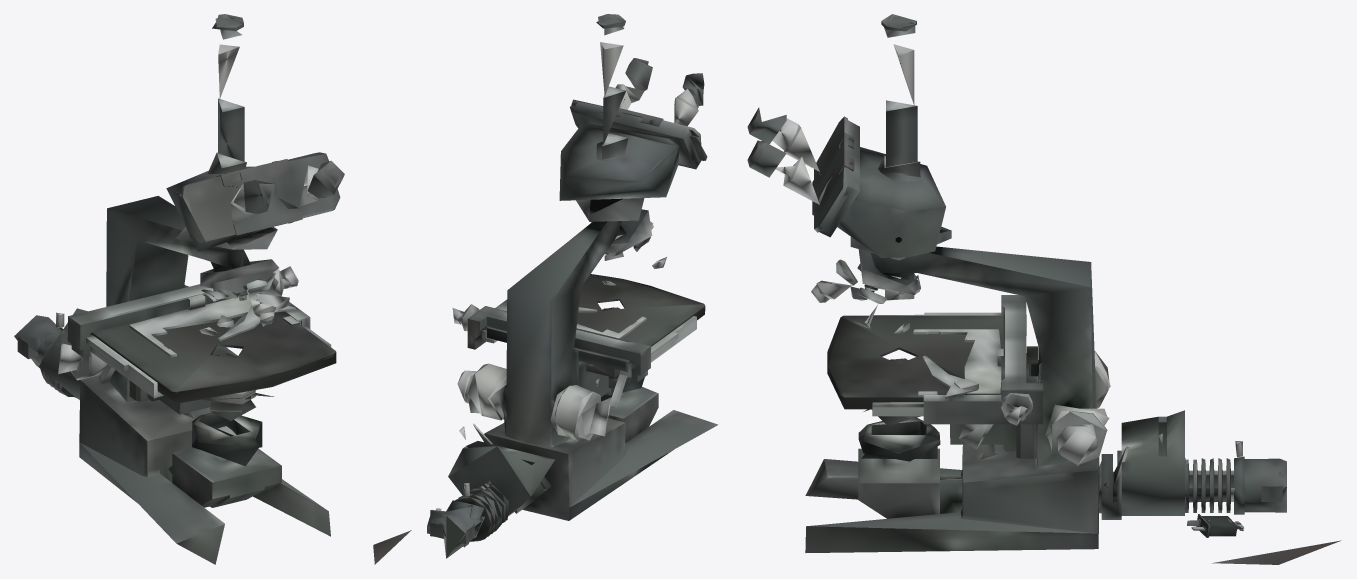
File: design-industrial-microscope.glb
3 renders of one model, left to right at view 1: azimuth 30°, elevation 25°; view 2: azimuth 150°, elevation 25°; view 3: azimuth 270°, elevation 25°, orthographic. The views are drawn at different scales.
Parts seen in each view (by area): view 1: industrial_microscope_cable; view 2: industrial_microscope_cable; view 3: industrial_microscope_cable.
Boxes of the visible parts, bbox=[...] form: industrial_microscope_cable: bbox=[14, 14, 344, 564]; industrial_microscope_cable: bbox=[373, 14, 718, 564]; industrial_microscope_cable: bbox=[747, 14, 1341, 564].
Bounding box in the file's own units: 0.2145 × 0.4606 × 0.4926.
Materials: 1 (1 with a texture image).
